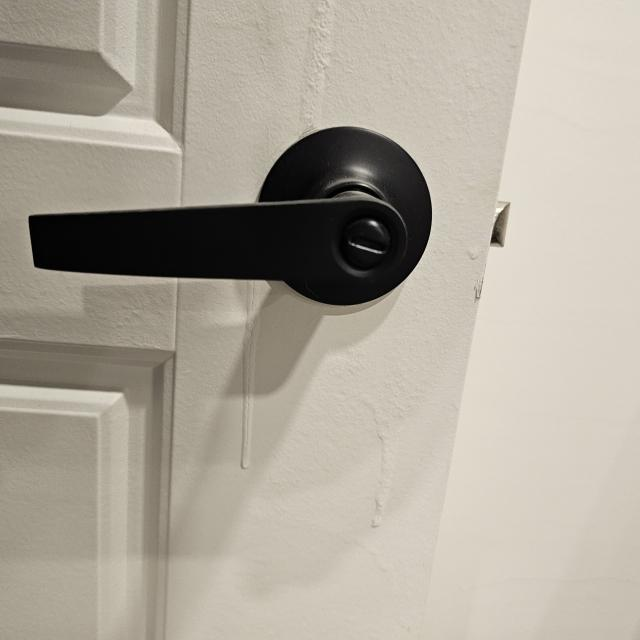door-handle: (29, 126, 431, 305)
